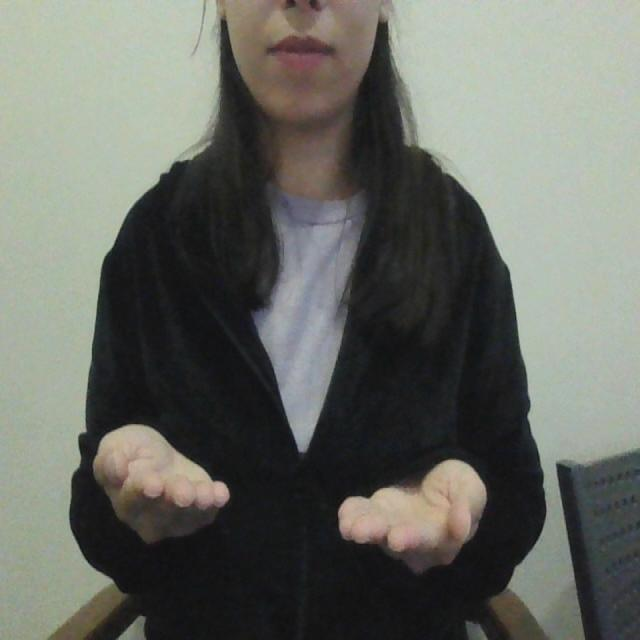Evet: (79, 419, 485, 574)
